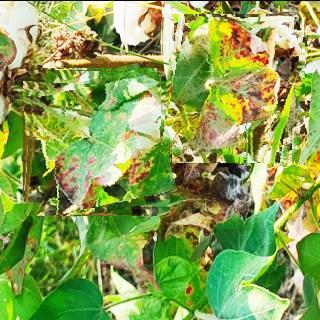blight: (23, 67, 171, 215), (160, 16, 305, 160)
